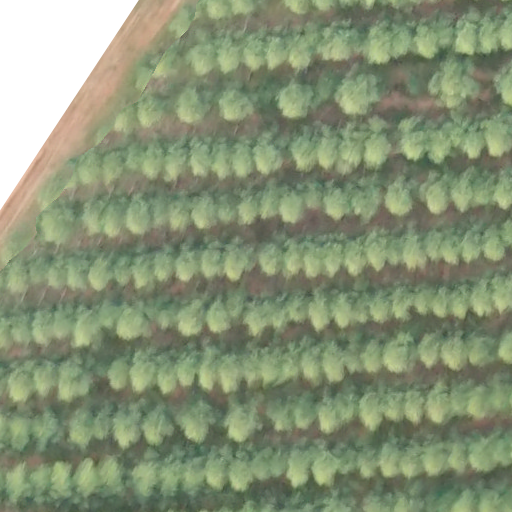eucalipto: (176, 400, 218, 445), (335, 77, 378, 116), (273, 82, 315, 121), (382, 332, 419, 374), (58, 358, 93, 402), (225, 402, 261, 443), (174, 86, 211, 125), (225, 238, 257, 283), (217, 88, 255, 125), (38, 209, 75, 245), (128, 347, 156, 394), (317, 26, 352, 63), (113, 404, 141, 450), (140, 406, 173, 445), (95, 454, 125, 496), (4, 461, 31, 507), (117, 306, 153, 340), (348, 183, 379, 222), (176, 298, 206, 338), (71, 307, 101, 347), (425, 384, 454, 424), (35, 409, 64, 449), (253, 139, 284, 176), (265, 395, 295, 433), (67, 408, 95, 447), (134, 92, 164, 128), (385, 182, 415, 218), (311, 285, 333, 334), (157, 346, 179, 395), (173, 246, 202, 283), (468, 435, 497, 472), (291, 132, 317, 173), (486, 117, 512, 158), (301, 343, 325, 387), (337, 130, 364, 169), (362, 133, 392, 168), (441, 334, 469, 371), (7, 413, 34, 451), (202, 241, 227, 282), (345, 235, 368, 278), (460, 125, 486, 163), (86, 255, 112, 293), (242, 297, 268, 335), (488, 381, 512, 422), (130, 465, 158, 500), (126, 197, 151, 236), (129, 252, 154, 291), (360, 392, 384, 432), (359, 36, 393, 64), (402, 233, 427, 271), (217, 357, 242, 395), (182, 458, 207, 496), (317, 126, 339, 169), (323, 233, 344, 278), (258, 242, 285, 277), (31, 363, 58, 398), (472, 280, 498, 316), (7, 367, 32, 404), (312, 451, 337, 488), (324, 342, 346, 384), (422, 443, 450, 476), (331, 442, 359, 475), (50, 460, 73, 500), (192, 192, 216, 230), (303, 230, 322, 278), (392, 287, 418, 322), (365, 230, 387, 271), (30, 463, 52, 504), (158, 462, 183, 498), (187, 43, 216, 74), (418, 334, 441, 373), (73, 458, 96, 497), (466, 385, 493, 418), (188, 141, 212, 178), (448, 285, 473, 320), (231, 142, 254, 180), (453, 28, 485, 55), (31, 309, 55, 345), (378, 443, 402, 479), (285, 291, 311, 324), (470, 335, 496, 368), (404, 388, 426, 427), (289, 448, 311, 487), (280, 191, 305, 225), (66, 254, 87, 294), (210, 140, 232, 178), (101, 200, 123, 238), (413, 27, 439, 59), (45, 258, 70, 291), (106, 357, 131, 390), (452, 382, 477, 415), (143, 141, 163, 182), (285, 236, 306, 275), (426, 180, 450, 214), (400, 131, 428, 160), (492, 277, 512, 317), (207, 301, 232, 333), (317, 395, 337, 435), (206, 457, 231, 489), (165, 144, 186, 182), (428, 130, 452, 163), (100, 148, 122, 184), (483, 225, 505, 261), (381, 390, 405, 423), (476, 22, 499, 56), (168, 194, 191, 228), (400, 448, 425, 479), (200, 349, 218, 392), (230, 461, 254, 493), (451, 177, 472, 213), (361, 338, 382, 374), (295, 394, 317, 428), (324, 189, 348, 220), (259, 182, 279, 219), (332, 293, 352, 330), (360, 443, 380, 480), (152, 251, 175, 283), (424, 227, 443, 265), (177, 347, 196, 385), (260, 352, 280, 388), (440, 71, 467, 97), (494, 172, 512, 211), (83, 200, 103, 235), (495, 66, 512, 107), (52, 306, 73, 339), (95, 300, 118, 330), (314, 71, 336, 102), (432, 286, 452, 320), (263, 43, 288, 70), (235, 198, 258, 227), (268, 294, 286, 331), (391, 26, 411, 59), (460, 230, 480, 263), (112, 255, 132, 288), (288, 45, 312, 72), (217, 190, 235, 226), (28, 257, 52, 284), (345, 339, 364, 373), (371, 291, 391, 323), (414, 287, 436, 316), (352, 291, 371, 324), (449, 438, 468, 471), (8, 264, 30, 292), (150, 195, 169, 227), (216, 49, 240, 74), (252, 449, 270, 482), (12, 315, 31, 346), (473, 175, 491, 207), (241, 47, 264, 71), (94, 412, 113, 441), (335, 392, 351, 426), (496, 435, 512, 469), (442, 236, 462, 262), (1, 317, 15, 354), (386, 236, 403, 266), (225, 290, 244, 316), (269, 452, 288, 478), (498, 331, 512, 366), (125, 142, 141, 172), (432, 26, 452, 50), (303, 188, 325, 209), (204, 1, 227, 20), (157, 309, 175, 332), (499, 19, 512, 50), (348, 390, 361, 421), (229, 1, 254, 16), (285, 1, 311, 14), (311, 1, 335, 13), (95, 361, 108, 381), (407, 78, 421, 96), (337, 1, 357, 10)
